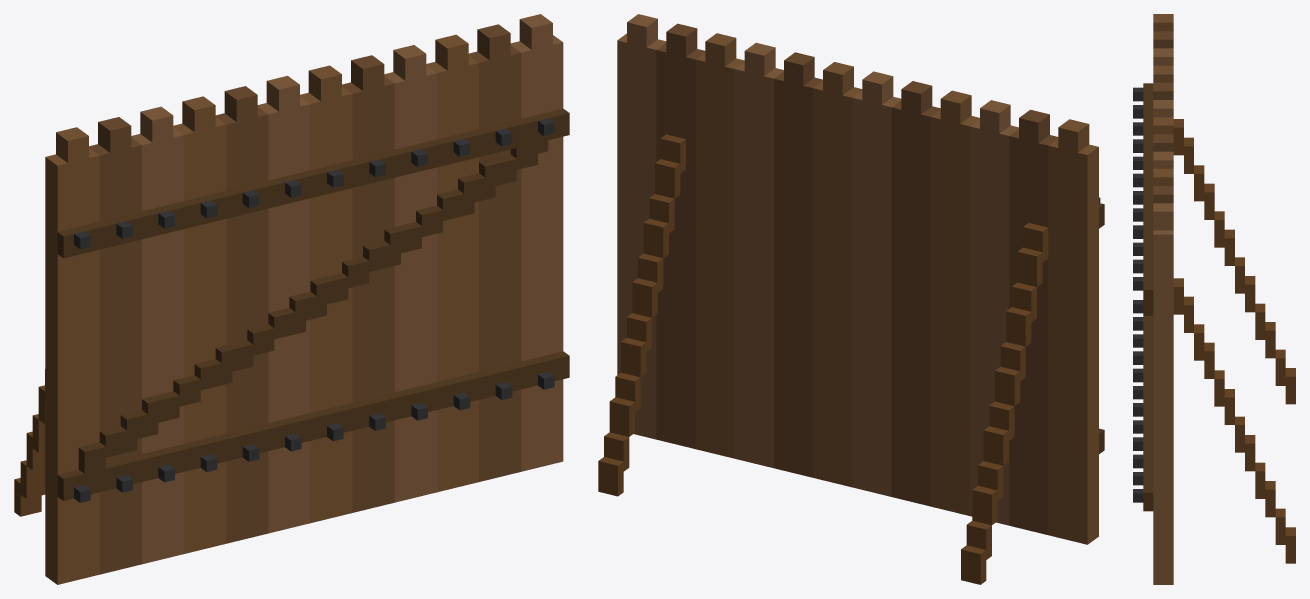
File: prop_woodwall.glb
3 views of the same model, side by side, from view 1: azimuth 30°, elevation 25°; view 2: azimuth 150°, elevation 25°; view 3: azimuth 270°, elevation 25° (orthographic). The views are drawn at different scales.
Visible parts, largest first — view 1: prop_woodwall; view 2: prop_woodwall; view 3: prop_woodwall.
Part boxes in pixels (x1=…): prop_woodwall: x1=14, y1=14, x2=569, y2=584; prop_woodwall: x1=598, y1=14, x2=1104, y2=584; prop_woodwall: x1=1133, y1=14, x2=1295, y2=584.
Bounding box in the file's own units: 2.4 × 2 × 0.7999.
